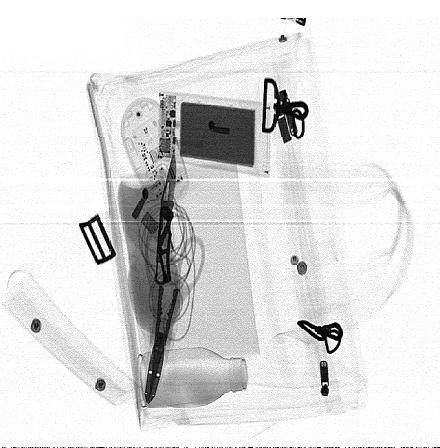Knife: (154, 147, 177, 287)
Powerbank: (156, 89, 271, 178)
Scissors: (143, 234, 207, 403)
